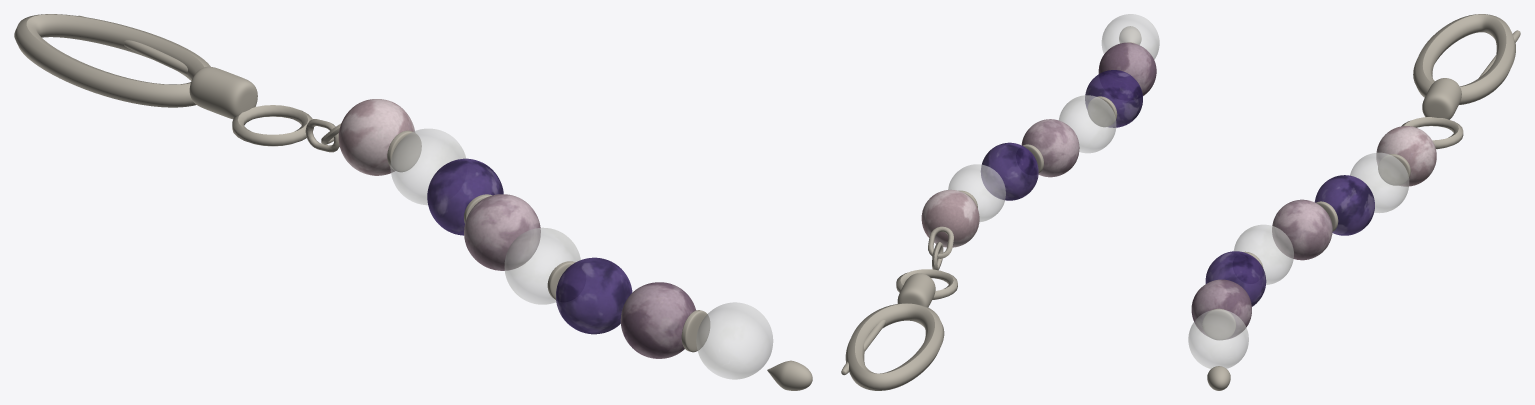
The model's file is standard.glb.
3 views of the same model, side by side, from view 1: azimuth 30°, elevation 25°; view 2: azimuth 150°, elevation 25°; view 3: azimuth 330°, elevation 25° (orthographic). The views are drawn at different scales.
Visible parts, largest first — view 1: hak.007, bead_round_1.002, bead_round_0.001, bead_round_2.001, bead_round_0.002, bead_round_0, bead_round_1.001, bead_round_2, bead_round_1, bead_peg_0.004, kolko.033, bead_peg_0 (+3 smaller); view 2: hak.007, bead_round_2, bead_round_0, bead_round_1.001, bead_round_0.001, bead_round_2.001, bead_round_1, bead_round_0.002, bead_round_1.002, bead_peg_0.004, kolko.033, bead_peg_0.002 (+3 smaller); view 3: hak.007, bead_round_0.001, bead_round_1.002, bead_round_2, bead_round_1, bead_round_0, bead_round_1.001, bead_round_0.002, bead_round_2.001, bead_peg_0.004, bead_peg_0.003, bead_peg_0 (+2 smaller).
Boxes of the visible parts, x1=… form: hak.007: x1=14, y1=14, x2=210, y2=107; bead_round_1.002: x1=696, y1=302, x2=773, y2=379; bead_round_0.001: x1=464, y1=194, x2=540, y2=270; bead_round_2.001: x1=556, y1=257, x2=632, y2=334; bead_round_0.002: x1=620, y1=282, x2=696, y2=358; bead_round_0: x1=338, y1=99, x2=414, y2=175; bead_round_1.001: x1=504, y1=227, x2=580, y2=304; bead_round_2: x1=427, y1=158, x2=503, y2=235; bead_round_1: x1=390, y1=128, x2=465, y2=205; bead_peg_0.004: x1=189, y1=66, x2=257, y2=119; kolko.033: x1=232, y1=105, x2=313, y2=146; bead_peg_0: x1=387, y1=130, x2=421, y2=171; hak.007: x1=845, y1=303, x2=944, y2=390; bead_round_2: x1=981, y1=142, x2=1038, y2=200; bead_round_0: x1=921, y1=189, x2=979, y2=247; bead_round_1.001: x1=1059, y1=95, x2=1116, y2=153; bead_round_0.001: x1=1021, y1=119, x2=1079, y2=177; bead_round_2.001: x1=1085, y1=70, x2=1142, y2=127; bead_round_1: x1=948, y1=164, x2=1005, y2=221; bead_round_0.002: x1=1098, y1=42, x2=1156, y2=95; bead_round_1.002: x1=1101, y1=14, x2=1159, y2=59; bead_peg_0.004: x1=897, y1=273, x2=935, y2=307; kolko.033: x1=896, y1=269, x2=957, y2=299; bead_peg_0.002: x1=1088, y1=96, x2=1117, y2=126; hak.007: x1=1413, y1=14, x2=1515, y2=104; bead_round_0.001: x1=1272, y1=199, x2=1332, y2=260; bead_round_1.002: x1=1188, y1=309, x2=1248, y2=368; bead_round_2: x1=1314, y1=175, x2=1374, y2=235; bead_round_1: x1=1350, y1=152, x2=1409, y2=212; bead_round_0: x1=1376, y1=126, x2=1436, y2=186; bead_round_1.001: x1=1233, y1=224, x2=1293, y2=284; bead_round_0.002: x1=1191, y1=279, x2=1251, y2=339; bead_round_2.001: x1=1205, y1=251, x2=1266, y2=306; bead_peg_0.004: x1=1422, y1=78, x2=1461, y2=119; bead_peg_0.003: x1=1202, y1=308, x2=1235, y2=340; bead_peg_0: x1=1378, y1=154, x2=1410, y2=185.
Bounding box in the file's own units: 2.75 × 0.7265 × 10.58.
7 materials, 6 textured.
